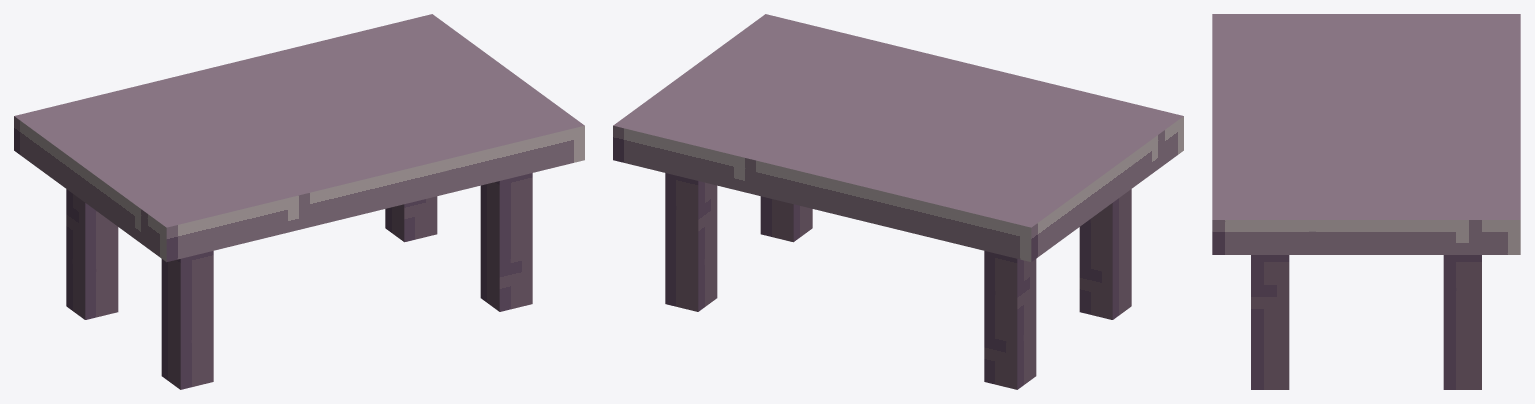
The model's file is int_boiler_tableao.fezao.glb.
3 renders of one model, left to right at view 1: azimuth 30°, elevation 25°; view 2: azimuth 150°, elevation 25°; view 3: azimuth 270°, elevation 25°, orthographic.
Parts seen in each view (by area): view 1: INT_BOILER_TABLEAO; view 2: INT_BOILER_TABLEAO; view 3: INT_BOILER_TABLEAO.
Boxes of the visible parts, x1,y1,x2,y2 form: INT_BOILER_TABLEAO: (14, 14, 584, 389); INT_BOILER_TABLEAO: (613, 14, 1183, 389); INT_BOILER_TABLEAO: (1212, 14, 1520, 389).
Size of the model in its own units: 2.38 by 1 by 1.5.
Materials: 1 (1 with a texture image).
